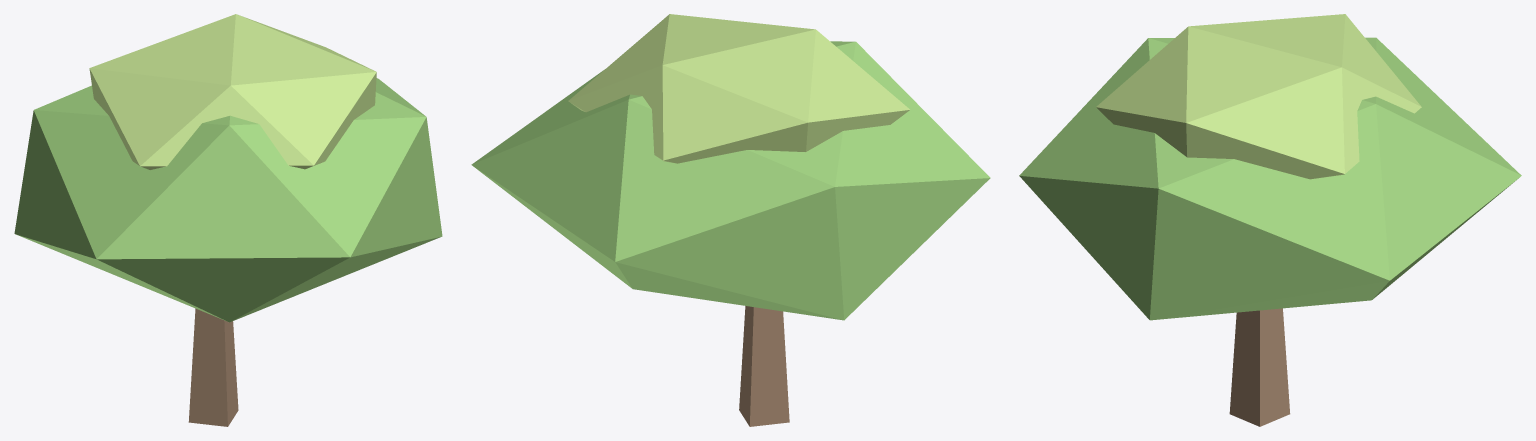
The model's file is arvore_ancia_lod.fbx.
The picture shows the model from 3 angles, left to right: view 1: azimuth 30°, elevation 25°; view 2: azimuth 150°, elevation 25°; view 3: azimuth 270°, elevation 25°; orthographic projection. The views are drawn at different scales.
Visible parts, largest first — view 1: arvore_ancia_lod~Copa@leaf, arvore_ancia_lod~Copa 0@leaflight, arvore_ancia_lod~Tronco@bark; view 2: arvore_ancia_lod~Copa@leaf, arvore_ancia_lod~Copa 0@leaflight, arvore_ancia_lod~Tronco@bark; view 3: arvore_ancia_lod~Copa@leaf, arvore_ancia_lod~Copa 0@leaflight, arvore_ancia_lod~Tronco@bark.
Part boxes in pixels (x1,y1,x2,y2): arvore_ancia_lod~Copa@leaf: [14, 78, 442, 322]; arvore_ancia_lod~Copa 0@leaflight: [89, 14, 376, 169]; arvore_ancia_lod~Tronco@bark: [188, 308, 238, 426]; arvore_ancia_lod~Copa@leaf: [471, 41, 990, 320]; arvore_ancia_lod~Copa 0@leaflight: [568, 14, 909, 163]; arvore_ancia_lod~Tronco@bark: [739, 306, 789, 426]; arvore_ancia_lod~Copa@leaf: [1019, 37, 1521, 320]; arvore_ancia_lod~Copa 0@leaflight: [1096, 14, 1421, 179]; arvore_ancia_lod~Tronco@bark: [1229, 308, 1290, 426].
Size of the model in its own units: 15.93 by 13.82 by 16.6.
